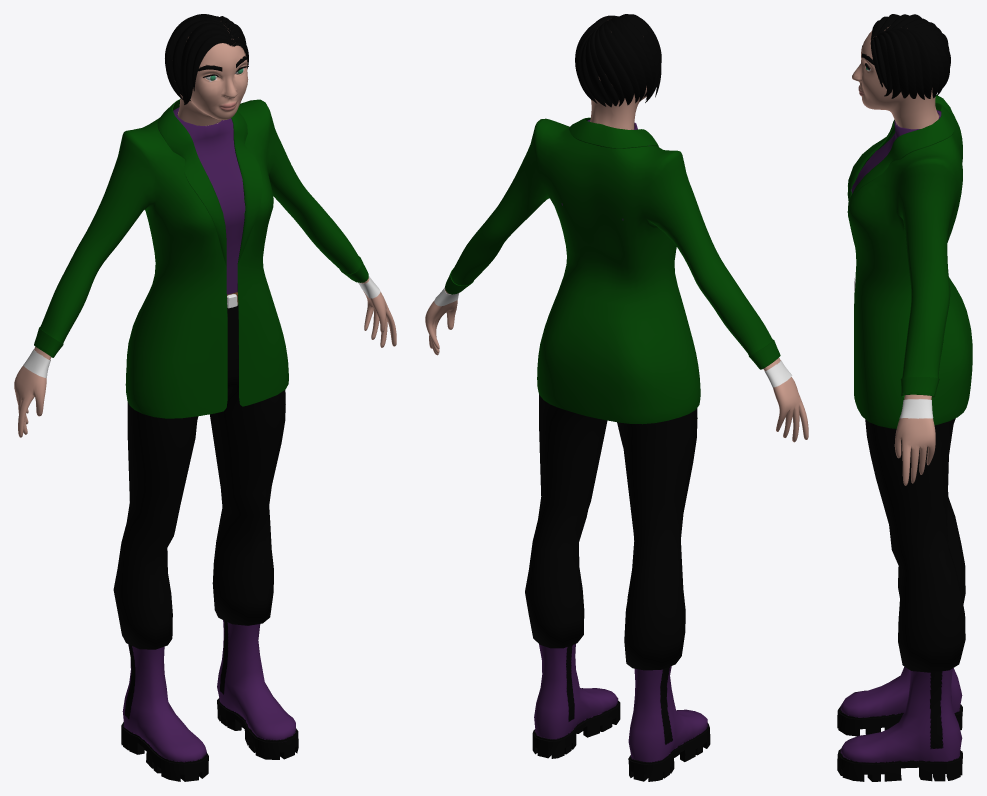
Rendered from Andarilha.fbx.
3 views of the same model, side by side, from view 1: azimuth 30°, elevation 25°; view 2: azimuth 150°, elevation 25°; view 3: azimuth 270°, elevation 25° (orthographic).
Visible parts, largest first — view 1: AndarilhaBake; view 2: AndarilhaBake; view 3: AndarilhaBake.
Boxes of the visible parts, <box> form: AndarilhaBake: <box>14,14,396,781</box>; AndarilhaBake: <box>425,14,808,781</box>; AndarilhaBake: <box>837,14,972,781</box>.
Size of the model in its own units: 82.88 by 153 by 25.63.
1 material, 1 textured.
